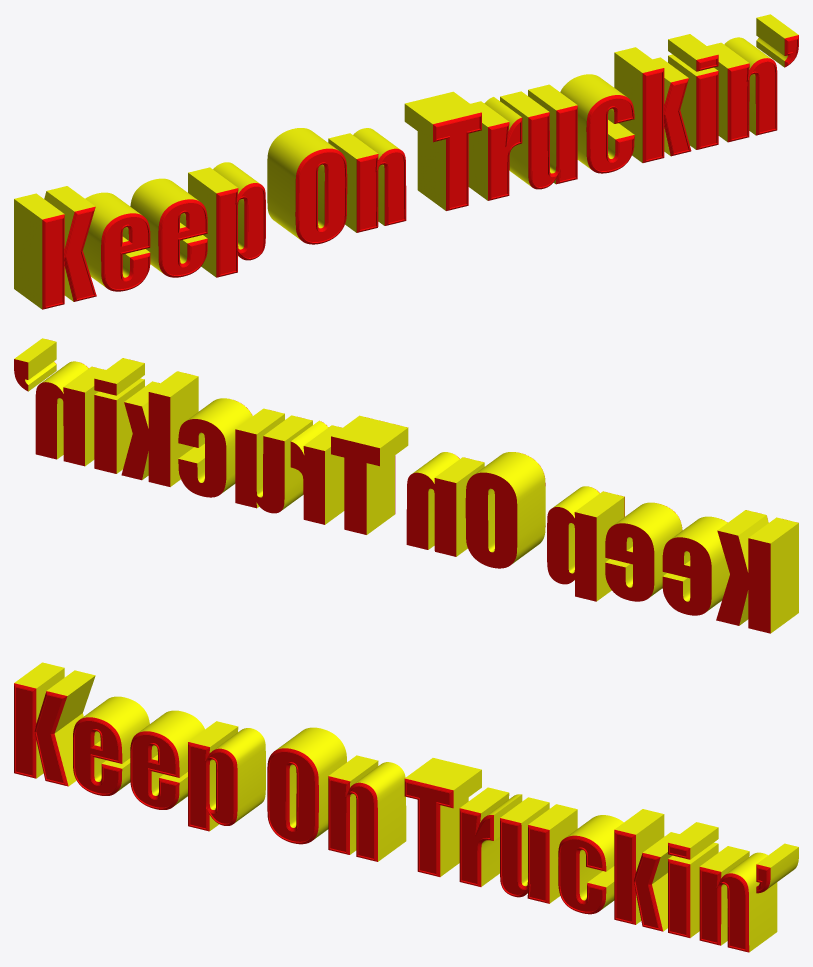
File: keep-on-truckin.dae
3 renders of one model, top to bottom at view 1: azimuth 30°, elevation 25°; view 2: azimuth 150°, elevation 25°; view 3: azimuth 330°, elevation 25°, orthographic.
Parts seen in each view (by area): view 1: Keep_On_Truckin_; view 2: Keep_On_Truckin_; view 3: Keep_On_Truckin_.
Part boxes in pixels (x1=…): Keep_On_Truckin_: x1=14, y1=14, x2=798, y2=309; Keep_On_Truckin_: x1=14, y1=338, x2=798, y2=633; Keep_On_Truckin_: x1=14, y1=662, x2=798, y2=952.
Bounding box in the file's own units: 972 × 126 × 66.12.
